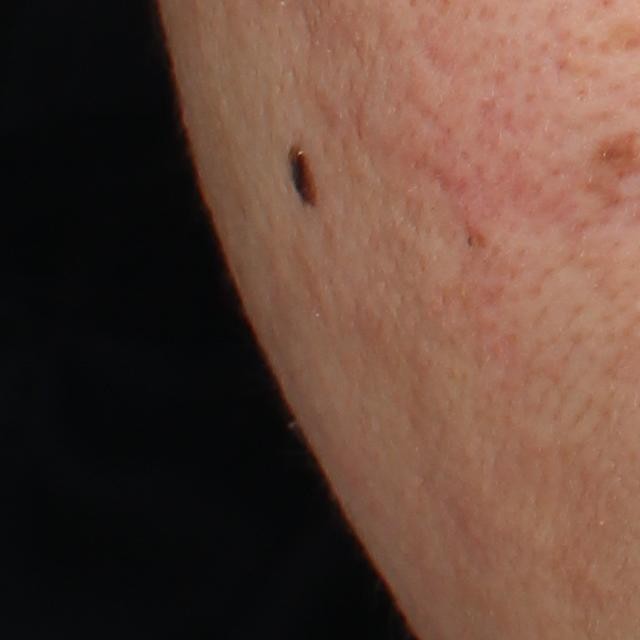atrophic_scar: (412, 17, 474, 96), (417, 163, 479, 226), (574, 174, 627, 230)
nevus: (290, 139, 320, 214)
